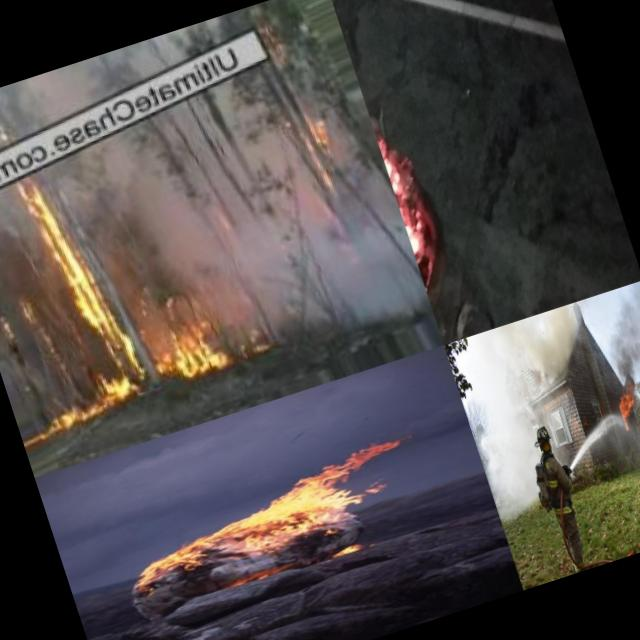fire: (111, 436, 417, 593), (364, 87, 461, 319), (36, 181, 129, 396), (160, 309, 242, 382), (36, 388, 108, 436), (232, 318, 274, 367), (610, 385, 640, 429)
smoke: (56, 84, 326, 254), (228, 158, 429, 356), (93, 209, 256, 342), (0, 186, 70, 327), (507, 306, 593, 400), (592, 282, 640, 391)
